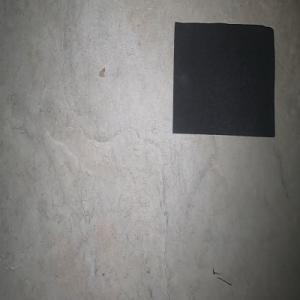PaintChip: (172, 21, 275, 137)
